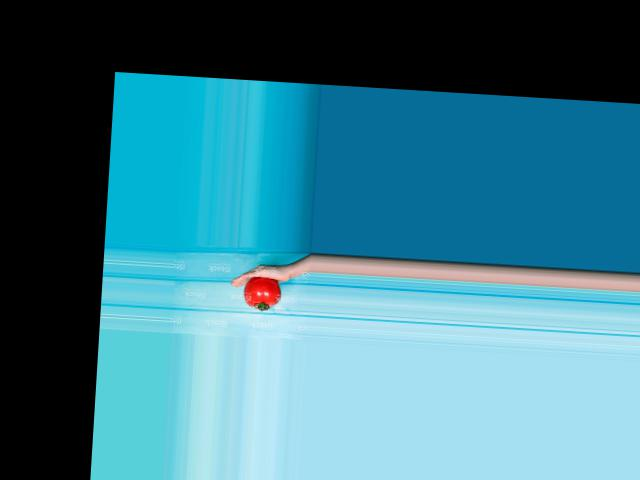tomato: (242, 275, 280, 310)
